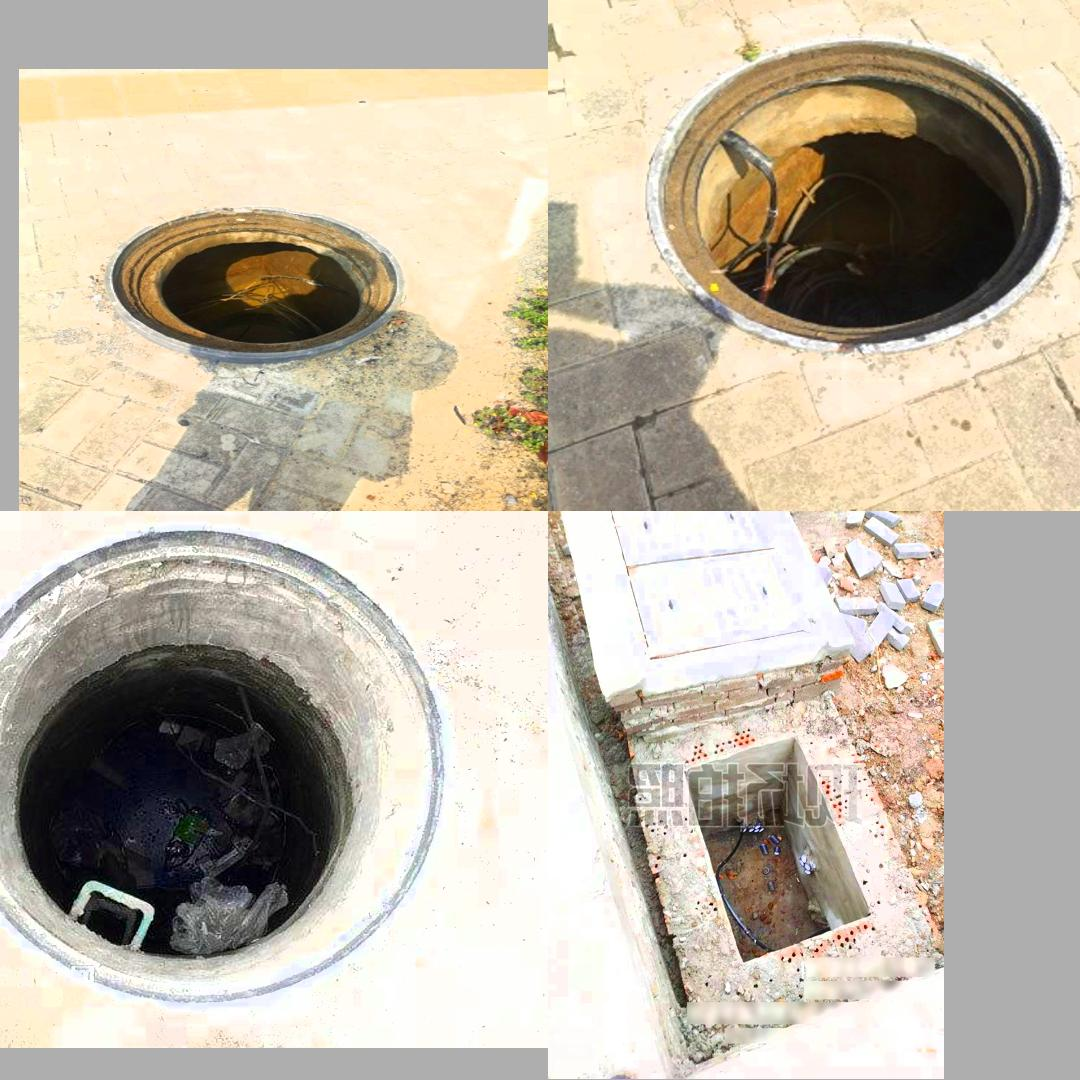good: (597, 512, 825, 674)
lose: (0, 519, 457, 1004), (643, 34, 1071, 351), (93, 196, 435, 359), (684, 732, 874, 963)
